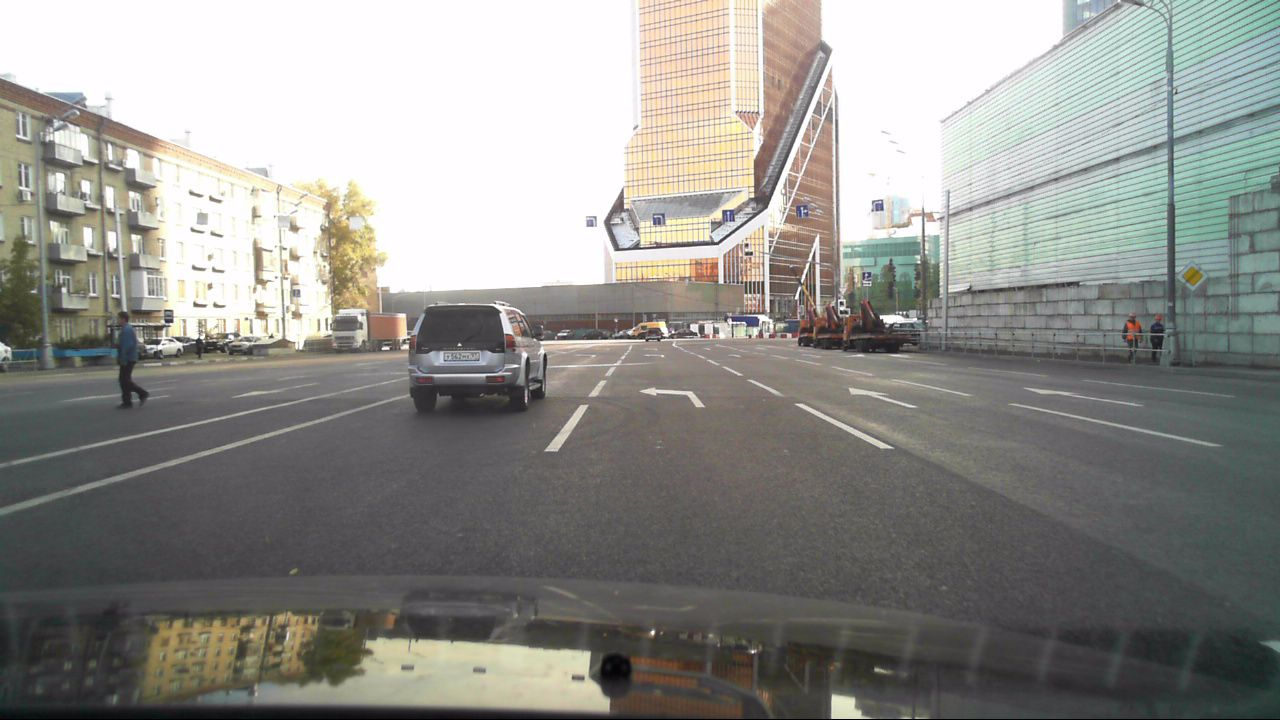main road: (1175, 259, 1210, 296)
